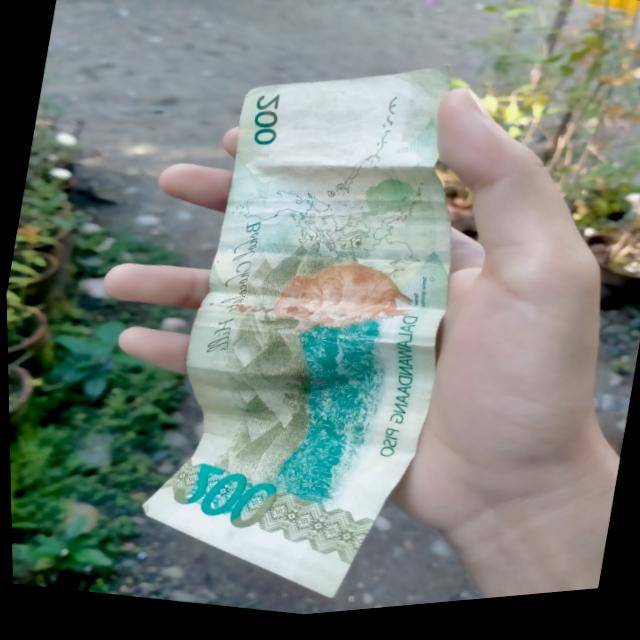see_through_mark: (362, 94, 418, 193)
value: (162, 449, 285, 542)
